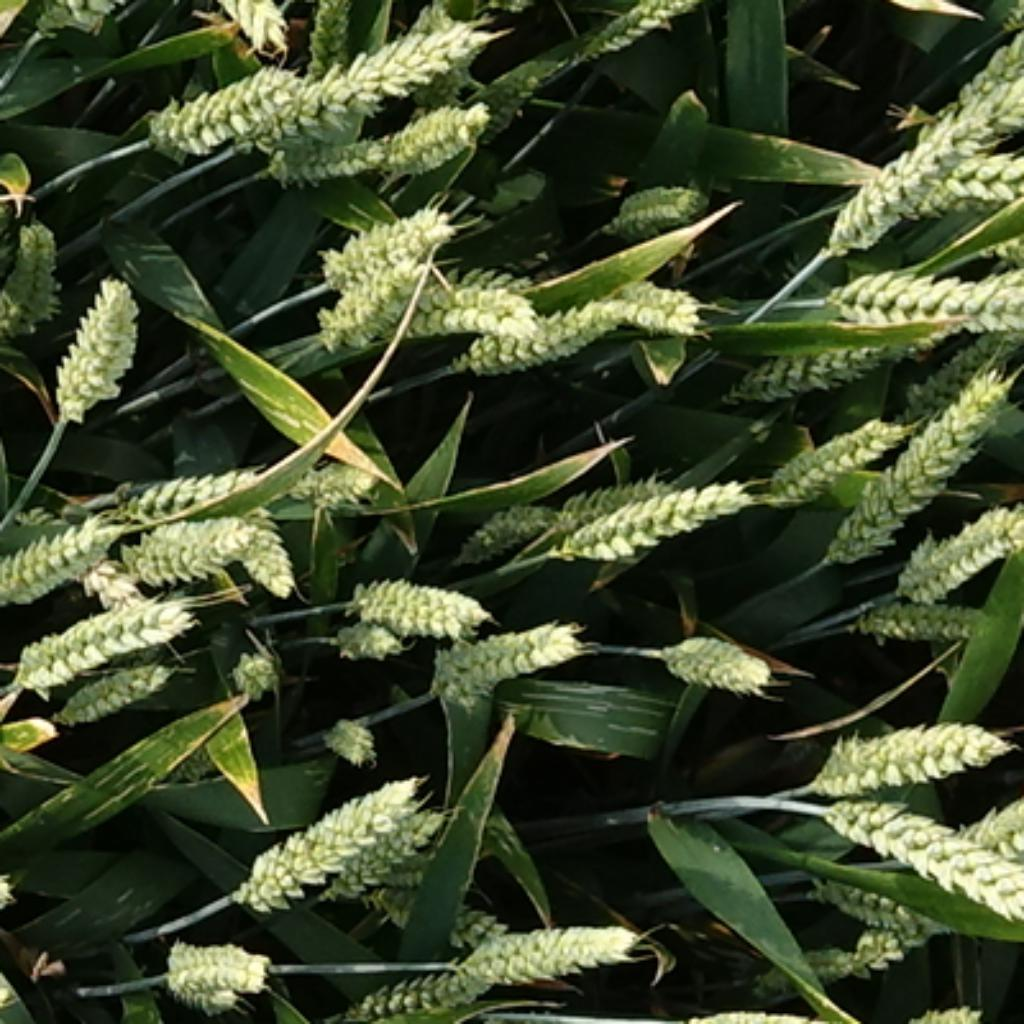0-0: (821, 348, 1008, 570), (227, 2, 494, 156), (819, 61, 1011, 245), (230, 762, 453, 908), (816, 780, 1024, 936), (317, 243, 547, 343), (307, 197, 458, 343), (537, 471, 757, 560), (796, 704, 1013, 788), (128, 64, 320, 158), (455, 284, 634, 381), (422, 903, 632, 985), (729, 314, 924, 399), (819, 250, 1021, 332), (901, 299, 1021, 435), (7, 591, 192, 678), (48, 261, 148, 414), (120, 496, 291, 581), (890, 488, 1024, 596), (424, 611, 591, 693), (757, 407, 898, 504), (340, 944, 509, 1018), (327, 803, 458, 896), (0, 501, 120, 601), (803, 867, 962, 939), (337, 565, 486, 637), (739, 929, 929, 985), (371, 89, 494, 174), (560, 2, 716, 69), (363, 880, 517, 947), (151, 921, 271, 1006), (409, 261, 540, 337), (581, 271, 721, 340), (51, 647, 176, 721), (0, 194, 64, 335), (885, 151, 1024, 215), (936, 33, 1024, 133), (652, 619, 773, 688), (112, 460, 266, 512), (552, 471, 691, 527), (844, 588, 988, 640), (601, 166, 711, 232), (919, 801, 1024, 865), (458, 488, 552, 558), (479, 813, 692, 842), (268, 135, 391, 184), (284, 445, 381, 501), (232, 499, 291, 591), (686, 998, 890, 1024), (194, 2, 294, 46), (302, 2, 360, 74), (17, 2, 128, 38), (330, 604, 404, 655), (225, 637, 284, 693), (314, 704, 373, 757), (891, 1005, 992, 1024)
